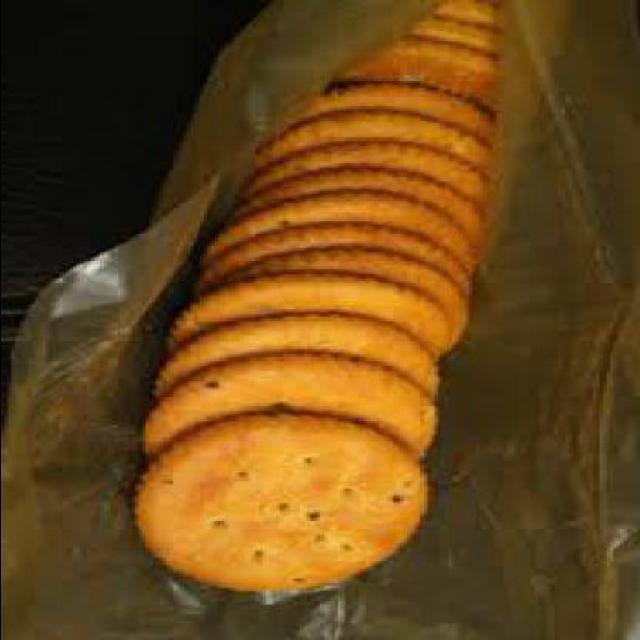Ritz cracker packaged: (106, 36, 534, 600)
